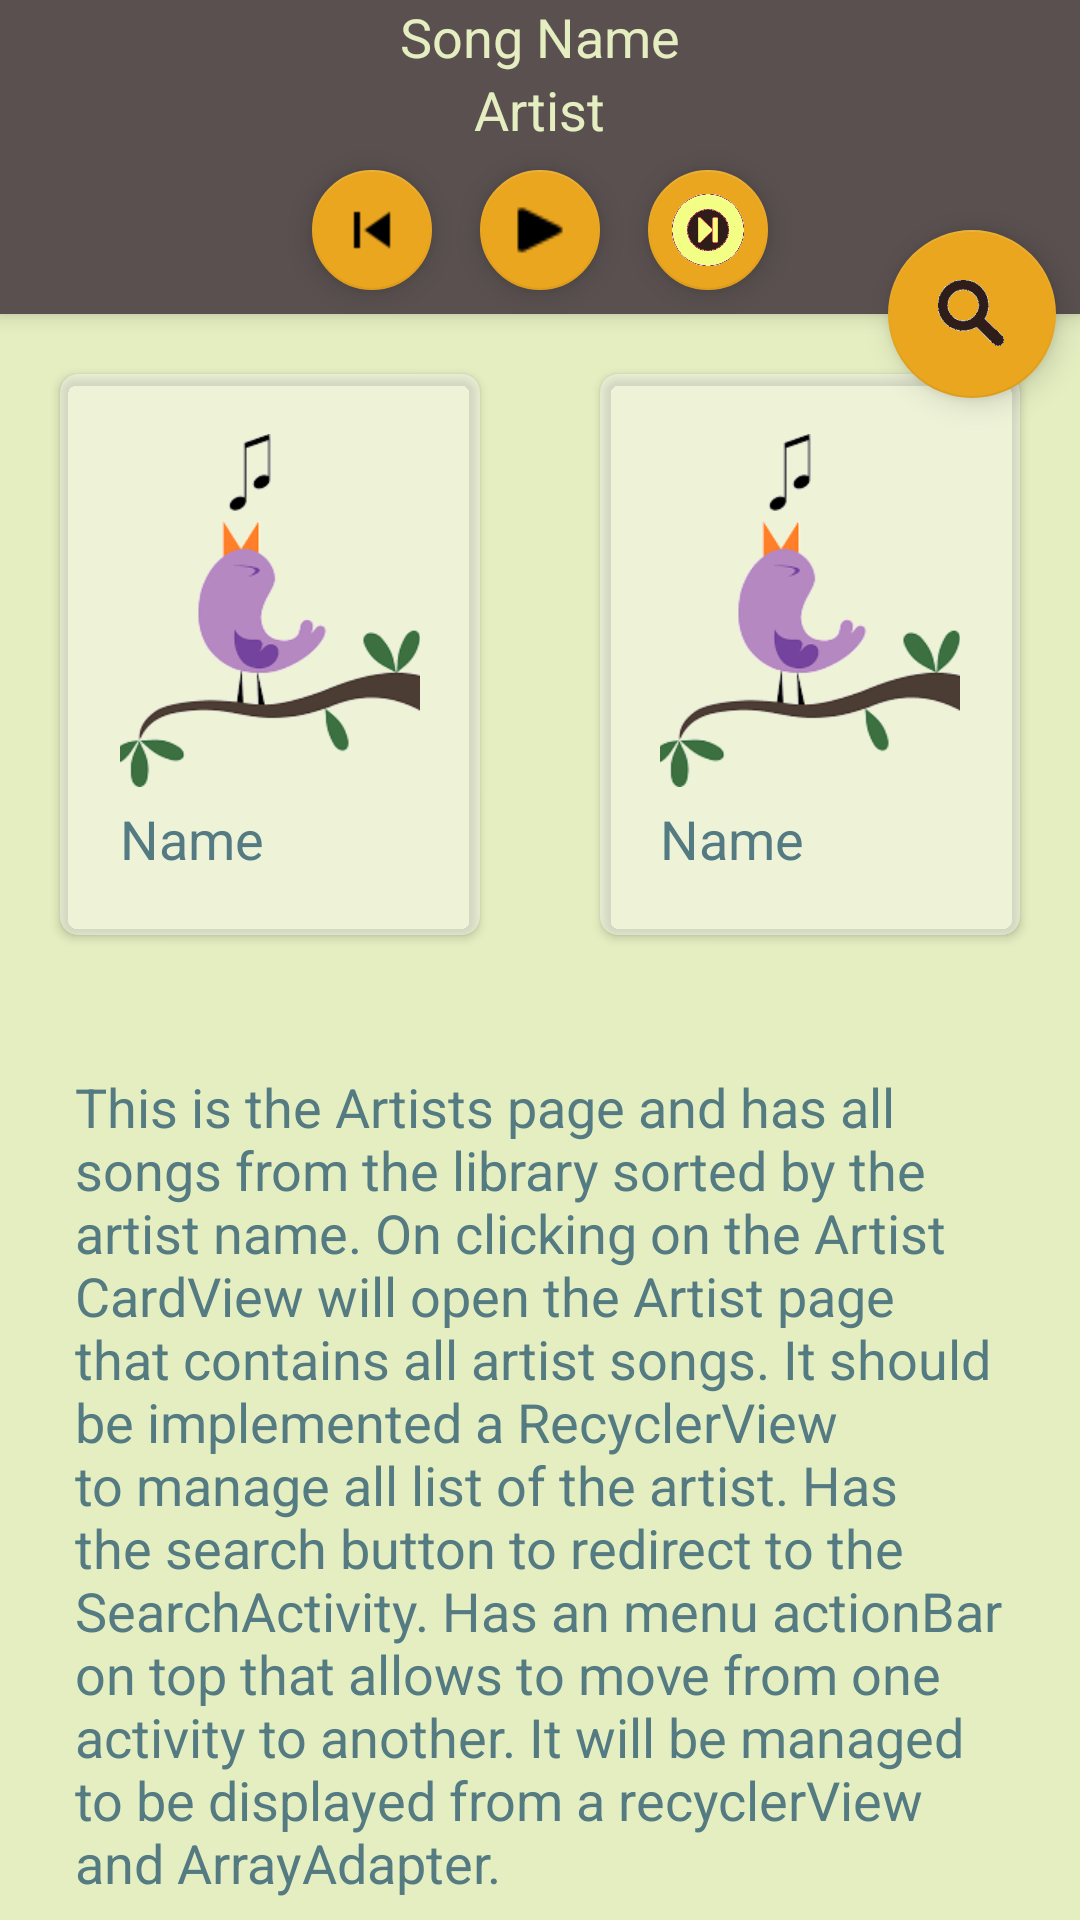

Locate icon controls on the screen. Image size 1080px x 1920px, boxes as [x1=x1, y1=y1, x2=x2, y2=y2].
next: [x1=648, y1=170, x2=768, y2=290]
play: [x1=480, y1=170, x2=600, y2=290]
previous: [x1=312, y1=170, x2=432, y2=290]
